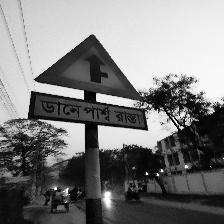Side-road-right: (30, 34, 146, 131)
